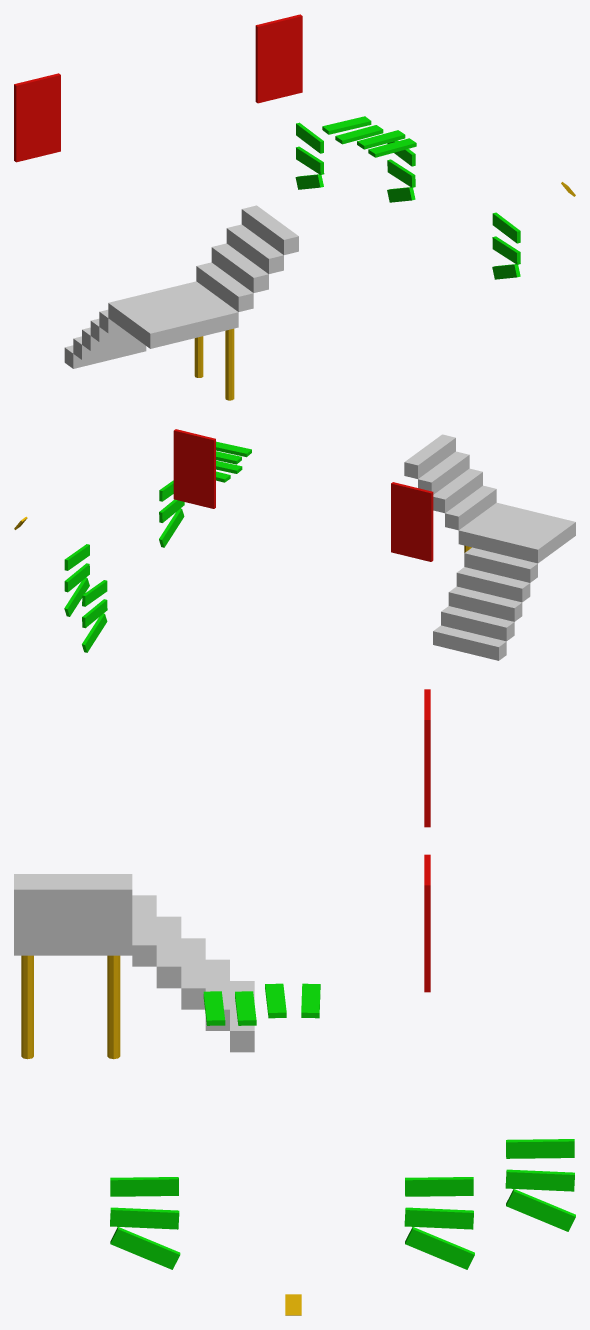
The model's file is Blocky_MainRoomV2_Gameplay.fbx.
3 views of the same model, one above another, from view 1: azimuth 30°, elevation 25°; view 2: azimuth 150°, elevation 25°; view 3: azimuth 270°, elevation 25° (orthographic). The views are drawn at different scales.
Visible parts, largest first — view 1: Cube.369, PORTE_1, Cube.269, Cylinder.010, Cube.640; view 2: Cube.369, Cube.269, PORTE_1, Cube.777, Cube.294, Cube.249, Cube.776, Cube.250, Cube.775, Cube.251, Cube.642, Cube.295; view 3: Cube.369, Cylinder.012, Cube.295, Cube.250, Cube.776, Cube.775, Cube.777, Cube.249, Cube.296, Cube.251, Cube.294, Cylinder.010 (+2 smaller).
Boxes of the visible parts, left/top/right/bottom form: Cube.369: left=64, top=205, right=298, bottom=368; PORTE_1: left=255, top=14, right=302, bottom=103; Cube.269: left=14, top=73, right=60, bottom=162; Cylinder.010: left=225, top=328, right=234, bottom=400; Cube.640: left=322, top=116, right=371, bottom=134; Cube.369: left=404, top=434, right=575, bottom=660; Cube.269: left=391, top=482, right=433, bottom=561; PORTE_1: left=173, top=429, right=215, bottom=508; Cube.777: left=82, top=613, right=107, bottom=652; Cube.294: left=159, top=508, right=184, bottom=547; Cube.249: left=64, top=577, right=89, bottom=616; Cube.776: left=82, top=599, right=107, bottom=628; Cube.250: left=64, top=563, right=89, bottom=592; Cube.775: left=82, top=580, right=107, bottom=606; Cube.251: left=64, top=544, right=89, bottom=570; Cube.642: left=216, top=441, right=251, bottom=457; Cube.295: left=159, top=499, right=184, bottom=522; Cube.369: left=14, top=874, right=254, bottom=1052; Cylinder.012: left=107, top=955, right=120, bottom=1059; Cube.295: left=110, top=1207, right=179, bottom=1229; Cube.250: left=404, top=1207, right=473, bottom=1229; Cube.776: left=505, top=1169, right=574, bottom=1191; Cube.775: left=506, top=1139, right=574, bottom=1158; Cube.777: left=506, top=1189, right=575, bottom=1231; Cube.249: left=405, top=1227, right=474, bottom=1269; Cube.296: left=110, top=1177, right=178, bottom=1196; Cube.251: left=405, top=1177, right=473, bottom=1196; Cube.294: left=110, top=1227, right=180, bottom=1269; Cylinder.010: left=21, top=955, right=33, bottom=1059.
Bounding box in the file's own units: 4094 × 1718 × 2722.
